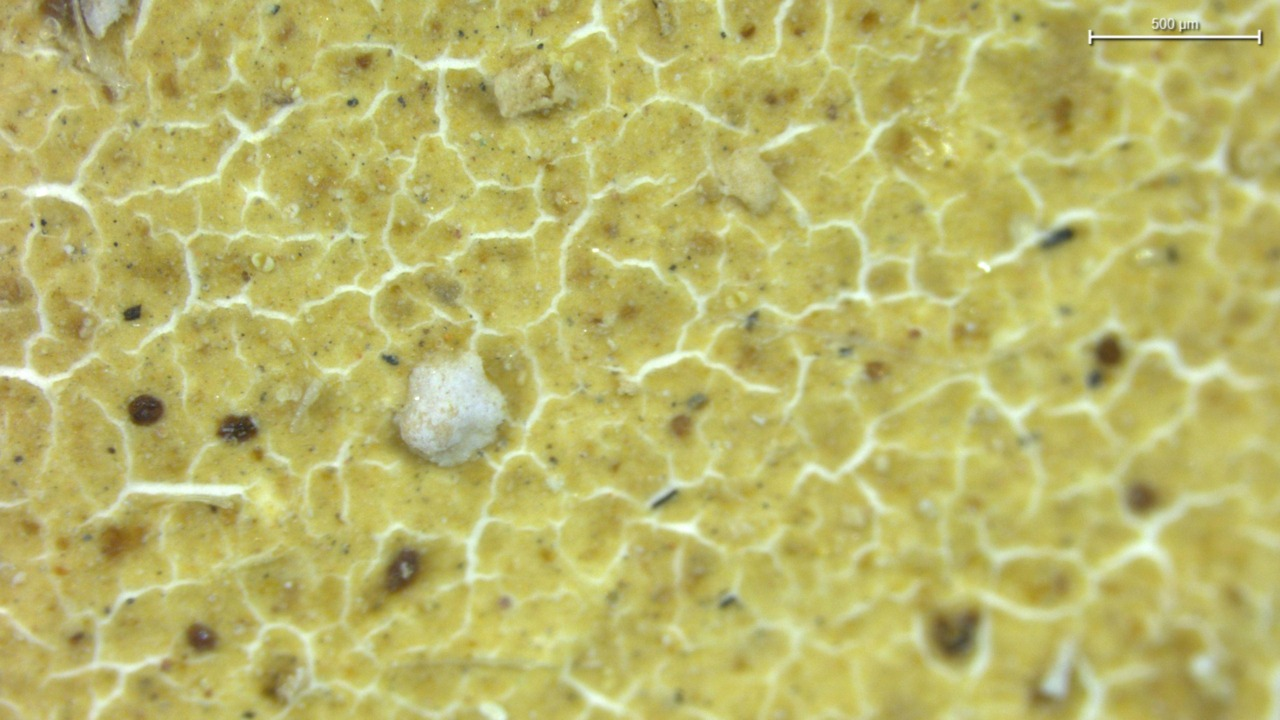microplastic_fragment: (394, 352, 505, 466), (487, 51, 577, 118), (78, 0, 128, 39)
